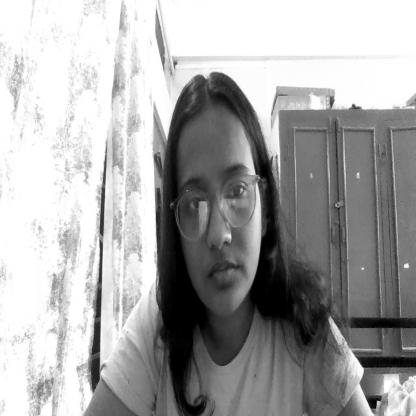Normal: (170, 96, 274, 316)
